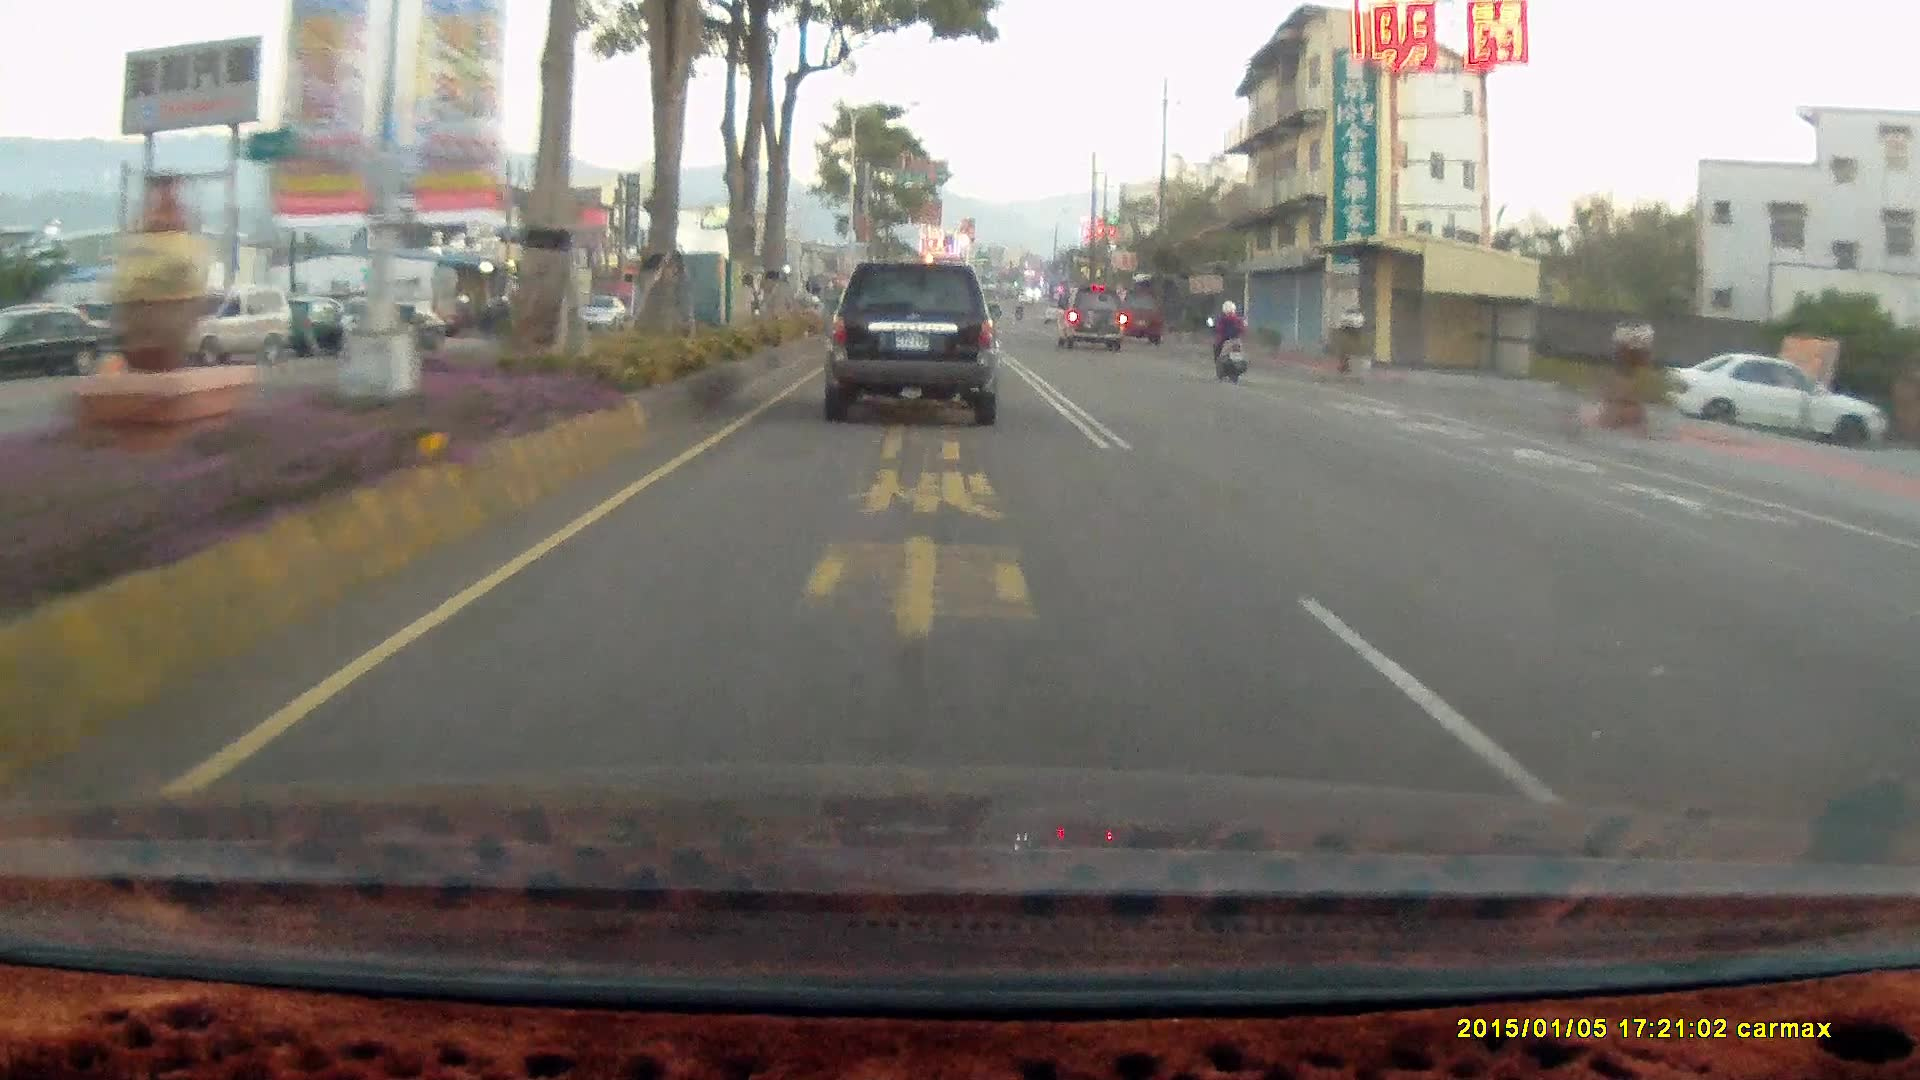rider: (1201, 293, 1258, 390), (1205, 299, 1248, 382)
vehicle: (815, 256, 1007, 428), (822, 261, 1002, 425), (1660, 352, 1887, 450), (1669, 354, 1883, 450), (139, 288, 298, 371), (134, 287, 293, 366), (1, 306, 136, 385), (335, 305, 450, 366), (1059, 290, 1130, 358), (1054, 285, 1126, 351), (1112, 289, 1162, 344)
